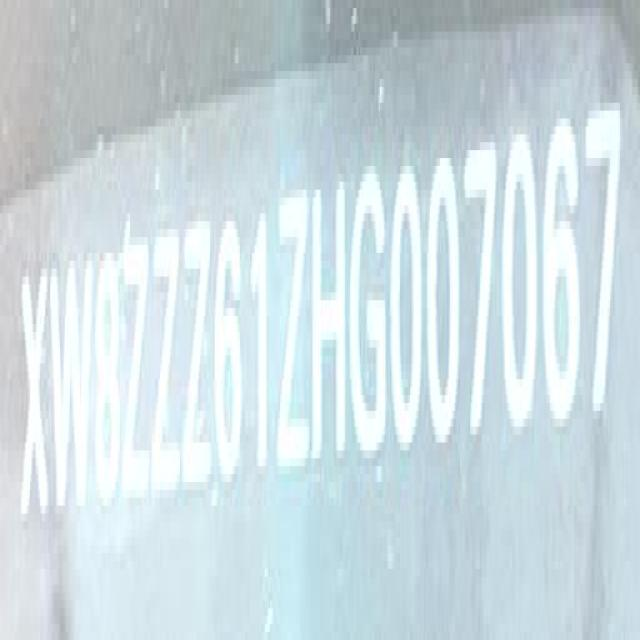0: (503, 122, 541, 446), (427, 146, 463, 457), (394, 164, 426, 467)
1: (248, 196, 272, 489)
6: (543, 110, 582, 438), (213, 207, 245, 494)
7: (587, 100, 620, 436), (464, 130, 497, 453)
8: (95, 237, 122, 527)
G: (350, 159, 390, 468)
H: (312, 172, 349, 474)
W: (48, 256, 92, 526)
X: (17, 265, 51, 537)
Z: (276, 181, 314, 486), (184, 219, 216, 510), (124, 233, 156, 515), (152, 220, 182, 513)
